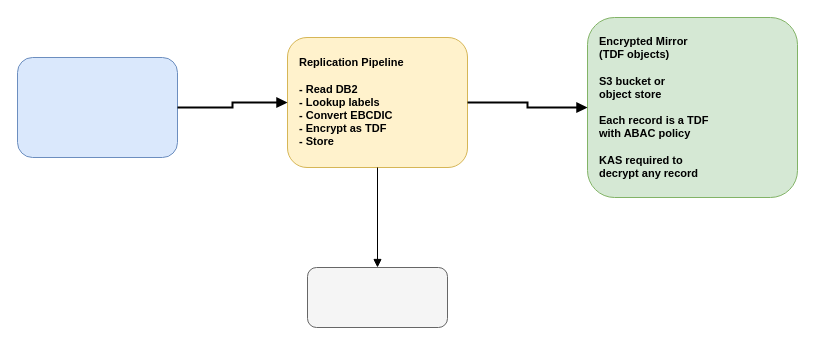
The diagram is 815 pixels wide and 345 high, and some of its shapes have lost their labels. Each missing label, with the centre of its shape:
"JLTS DB2 (plaintext) 380 GB active 2.1 TB archive" goes at pixel 97 107.
"Shadow Label Store (Opt. 1)" goes at pixel 377 297.
